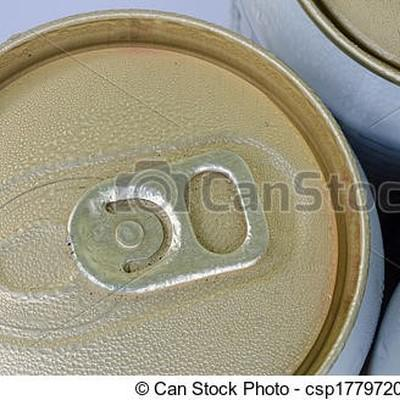beer: (1, 10, 385, 374)
